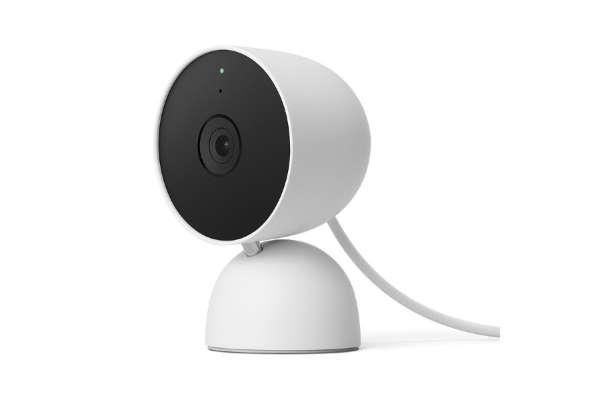maru: (153, 43, 502, 356)
